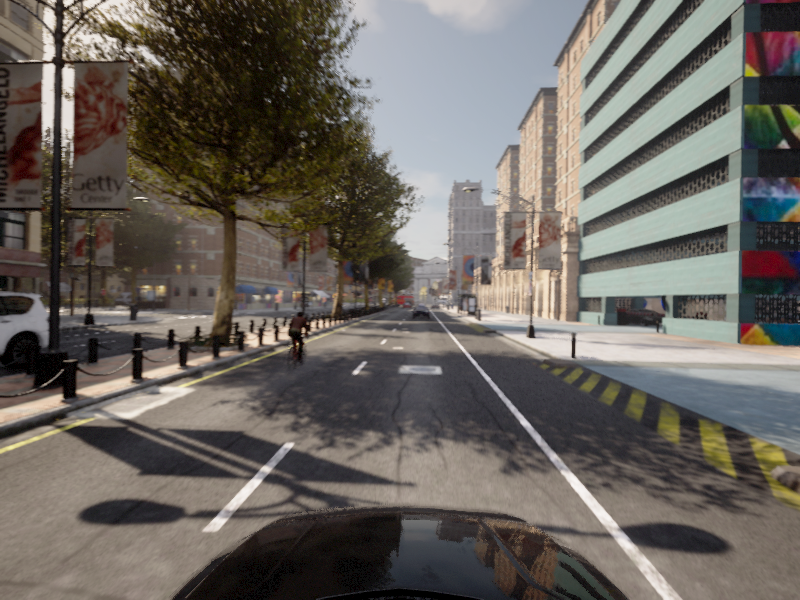vehicle: (1, 284, 68, 414), (277, 310, 316, 373), (412, 305, 430, 318)
